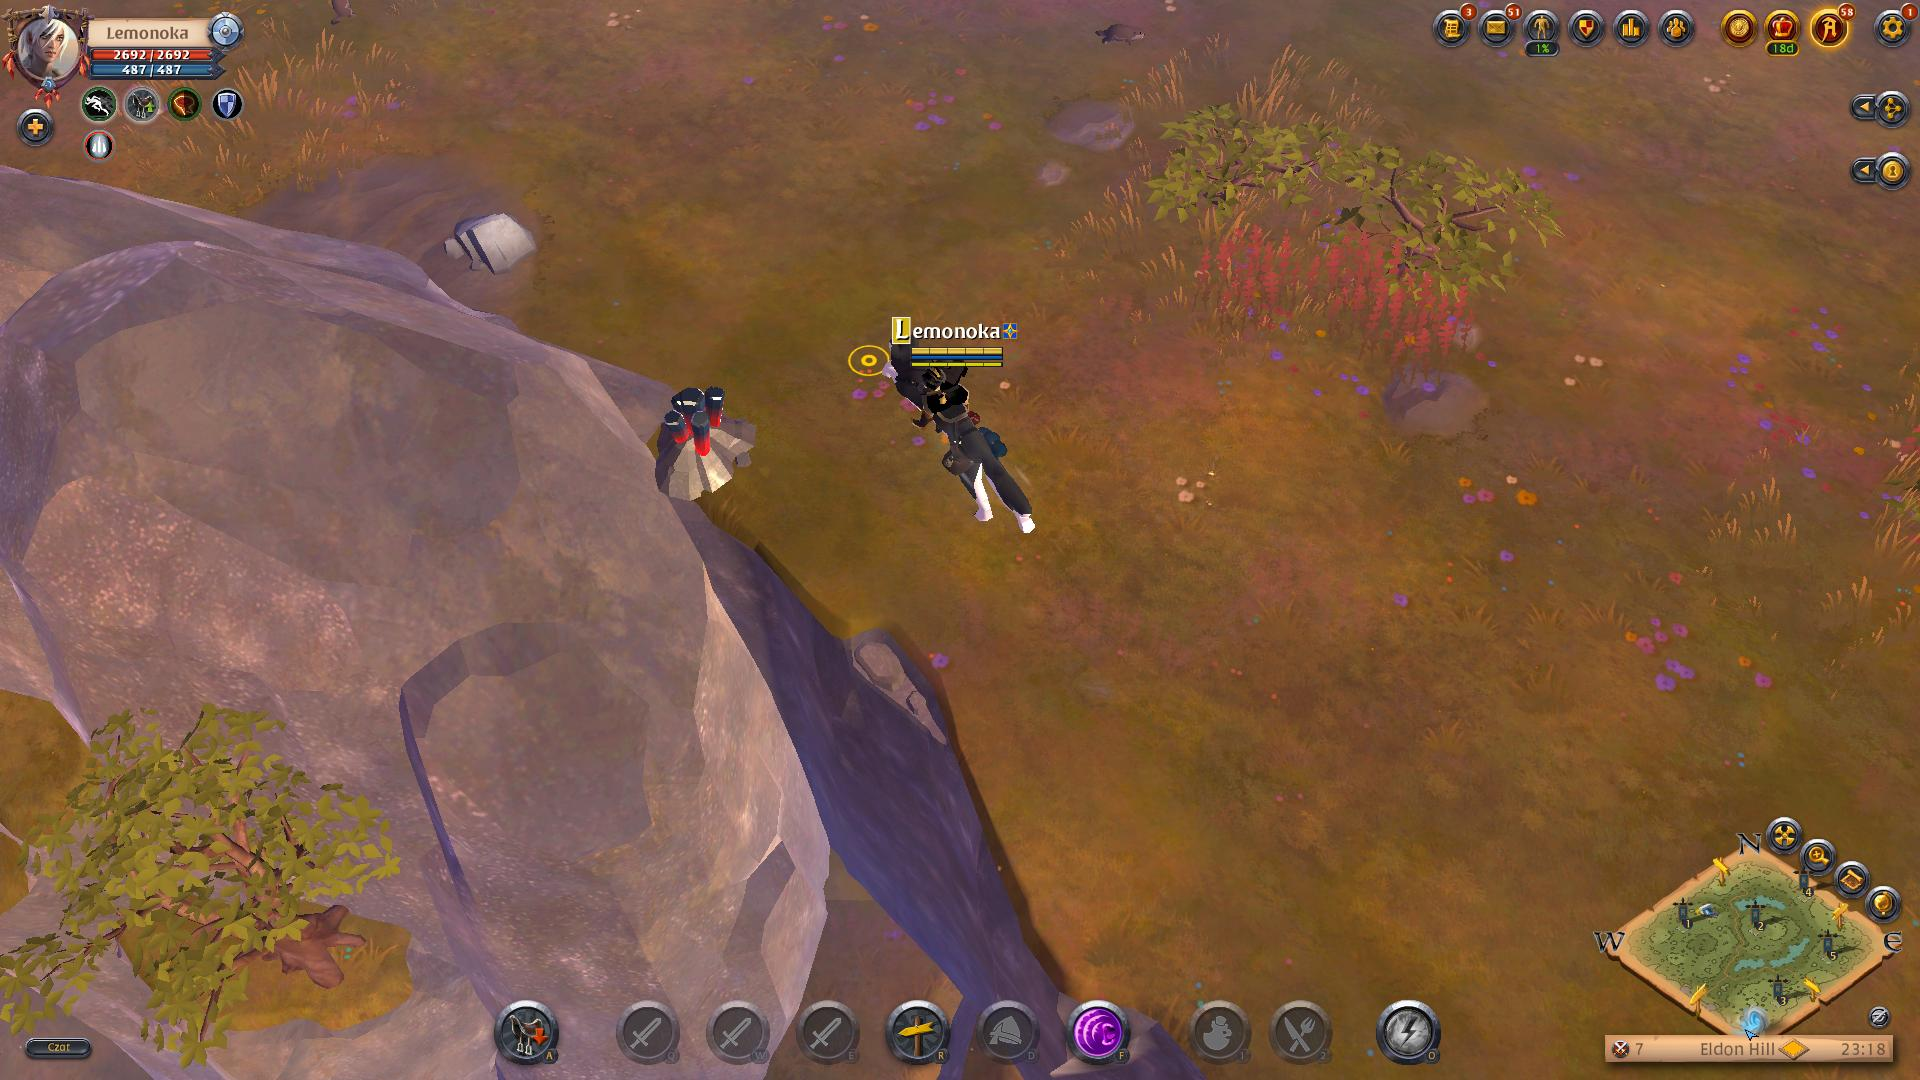ore tier 5: (645, 384, 764, 501)
rock tier 1: (442, 204, 543, 278)
